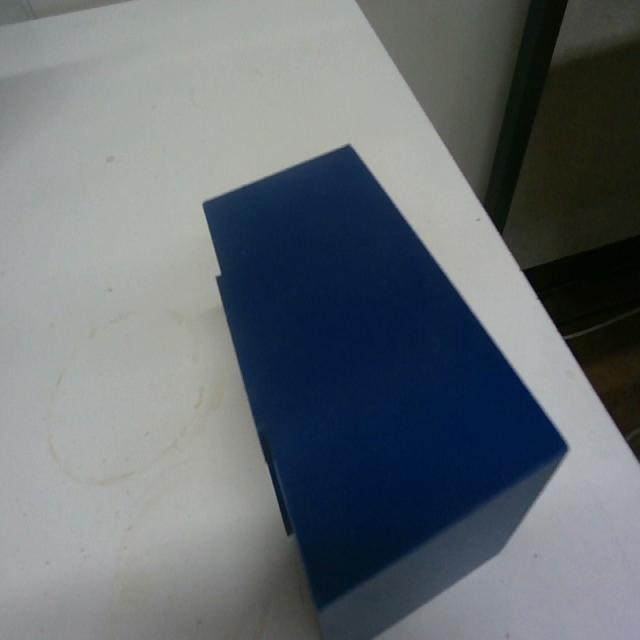Blue Cuboid: (200, 139, 570, 628)
